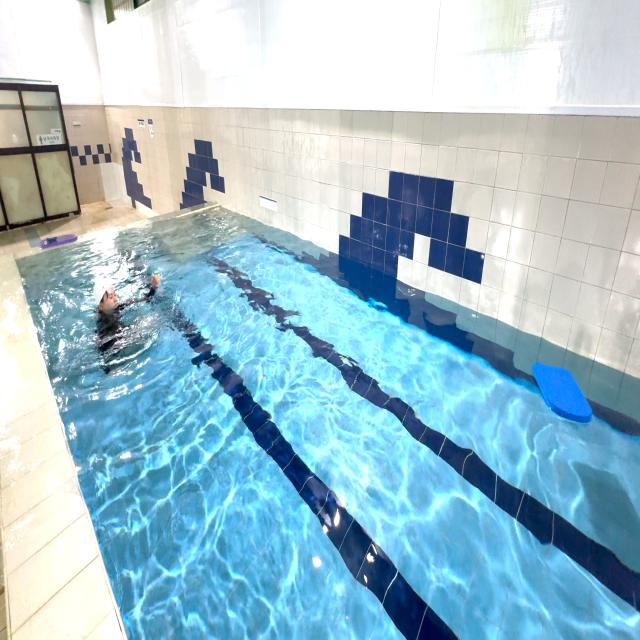Drowning: (74, 252, 183, 396)
